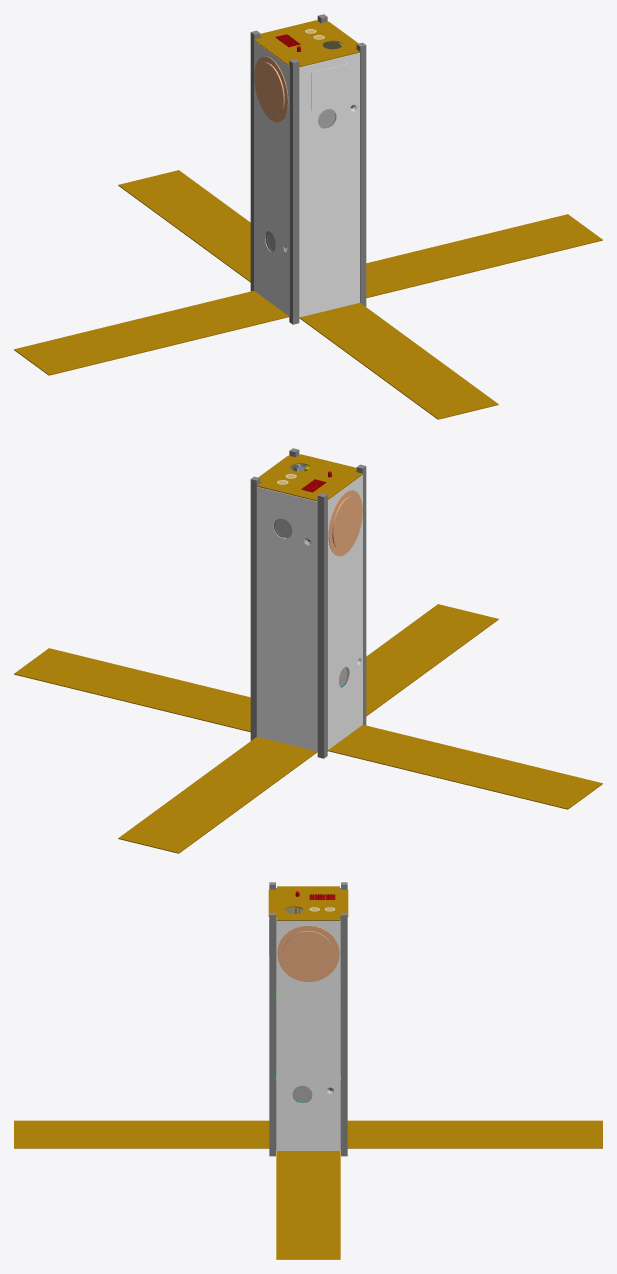
The model's file is nanosat.dae.
3 views of the same model, one above another, from view 1: azimuth 30°, elevation 25°; view 2: azimuth 150°, elevation 25°; view 3: azimuth 270°, elevation 25° (orthographic). The views are drawn at different scales.
Visible parts, largest first — view 1: satellite_3U.001; view 2: satellite_3U.001; view 3: satellite_3U.001.
Boxes of the visible parts, x1,y1,x2,y2 form: satellite_3U.001: (14, 14, 602, 419); satellite_3U.001: (14, 448, 602, 853); satellite_3U.001: (14, 882, 602, 1259).
Bounding box in the file's own units: 0.7544 × 0.7544 × 0.3411.
35 materials, 7 textured.
